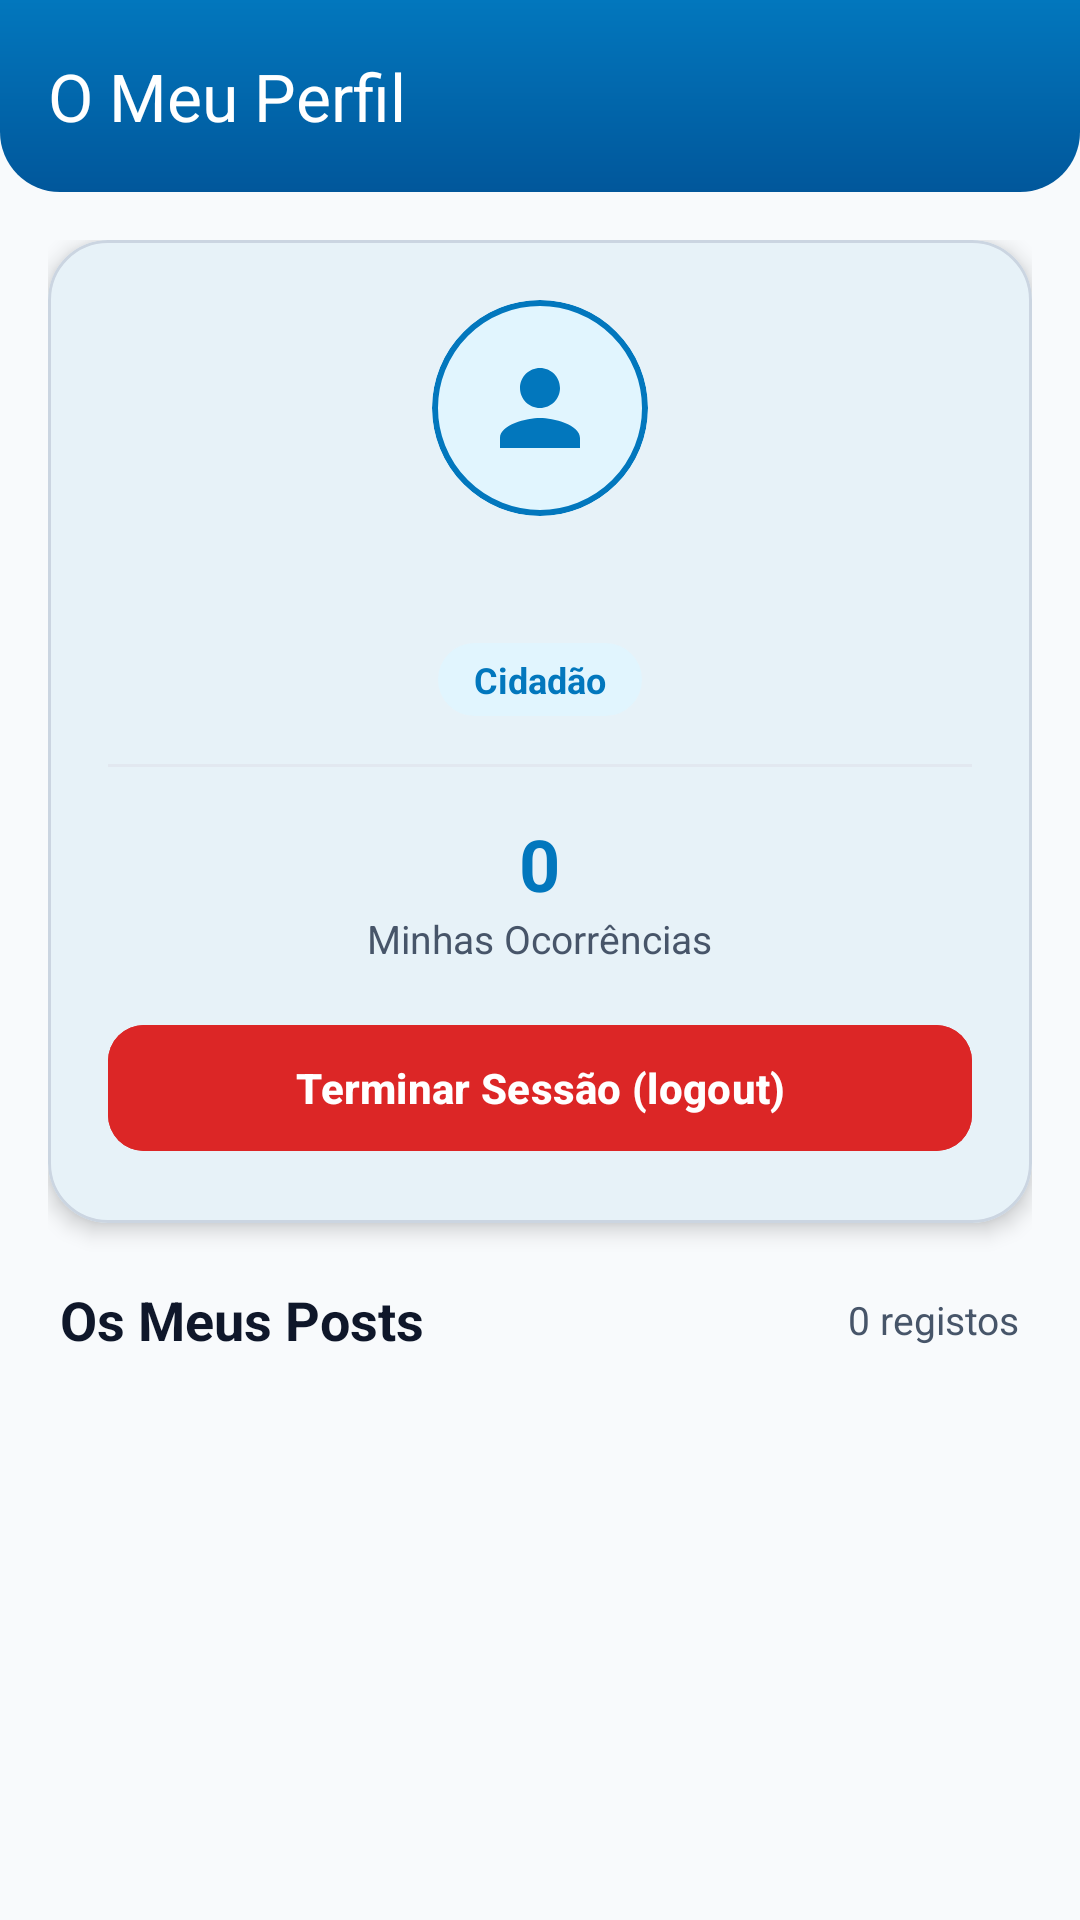

Named icons in this screenshot (1080*1920) and their centers, (x=x, y=y):
Avatar: (x=540, y=408)
